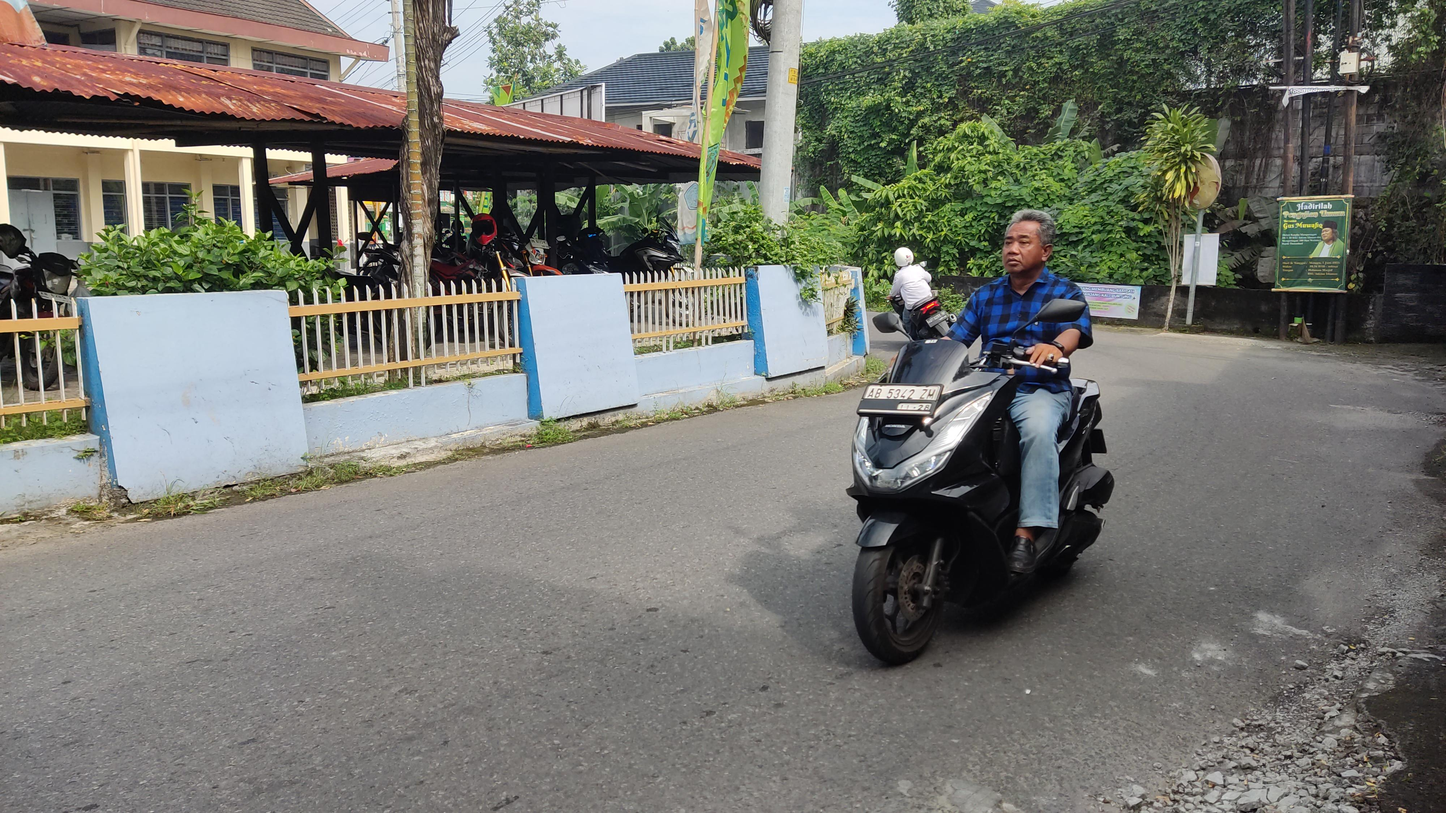nohelm: (1000, 206, 1059, 280)
riding: (842, 205, 1120, 669)
